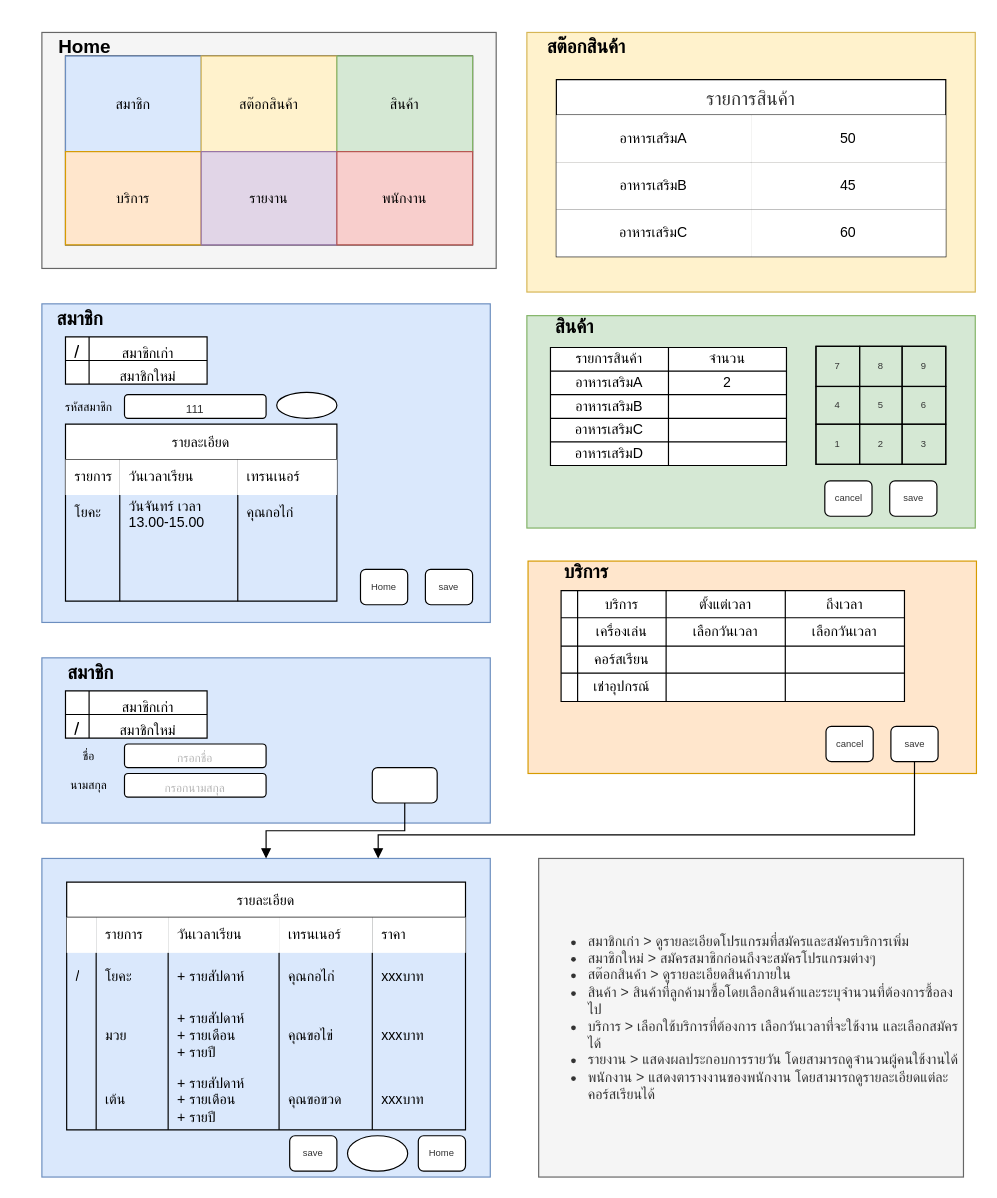
This 997x1198 diagram has some shape labels left out. Here are the shapes that lost their labels. From the top down, the centre of each, then its label:
the point at 306,404: เพิ่มบริการ
the point at 404,784: สมัครเสร็จสิ้น
the point at 377,1153: บริการอื่นๆ
